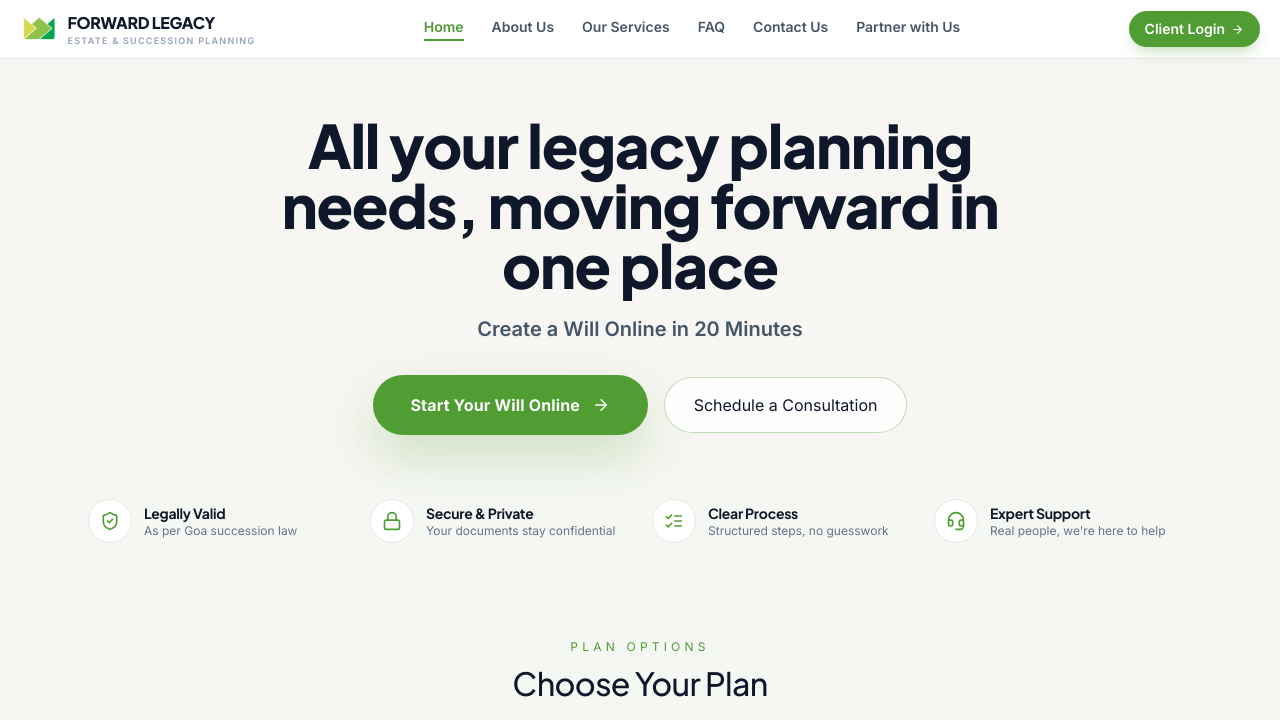
site nav › can navigate away from Partner with Us back to Home
This screenshot has width=1280, height=720.
Click the button "Partner with Us" at (908, 29), box x1=856 y1=17 x2=960 y2=41
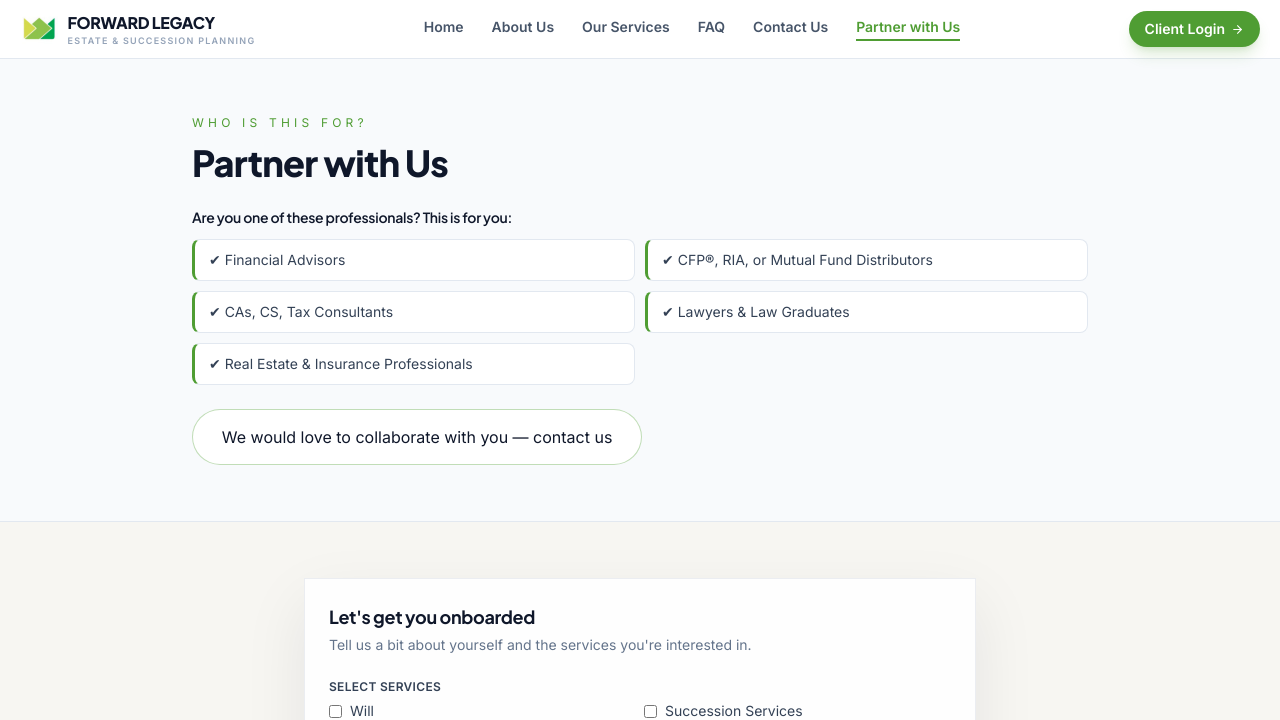
Expected: the heading "Let's get you onboarded" is shown, x1=329 y1=605 x2=535 y2=628
Click the button "Home" at (444, 29), box x1=424 y1=17 x2=464 y2=41
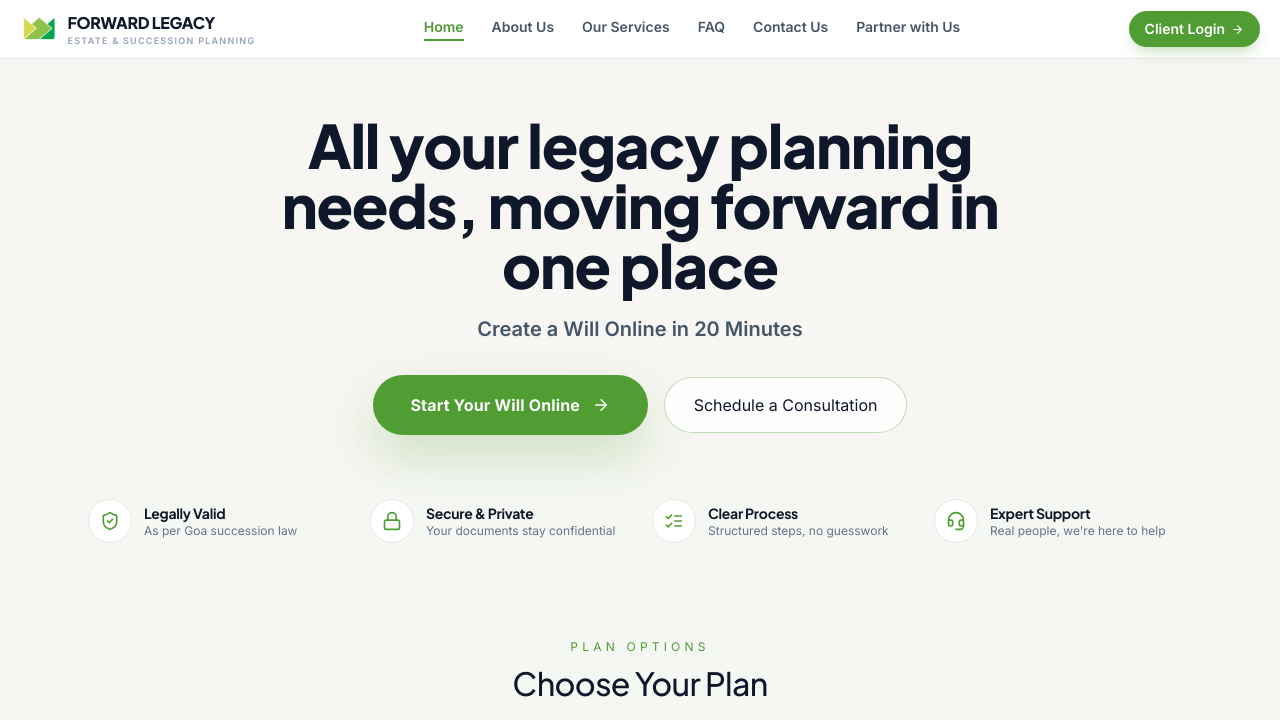
Expected: the heading "All your legacy planning needs, moving forward in one place" is shown, x1=256 y1=115 x2=1024 y2=295
